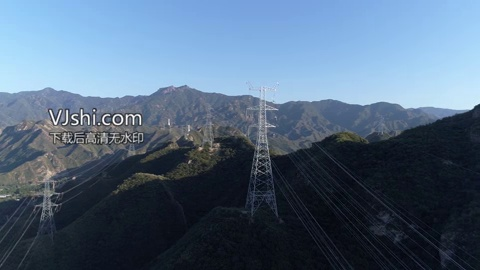tower_body: (237, 78, 289, 216), (29, 174, 66, 245)
tower_foot: (37, 216, 56, 242)
tower_head: (241, 81, 281, 96), (32, 176, 63, 185)
